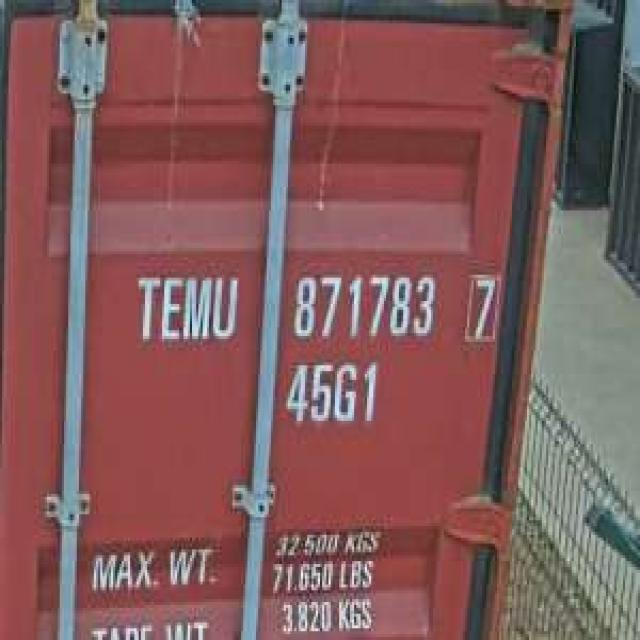dv: (461, 266, 501, 348)
owner: (128, 266, 241, 351)
serial: (286, 263, 437, 345)
size: (279, 353, 382, 432)
